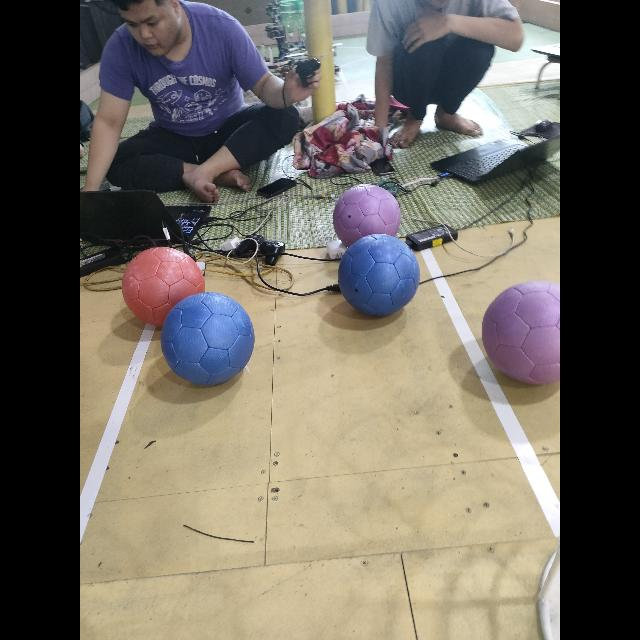B: (162, 292, 255, 386), (338, 234, 419, 316)
P: (482, 281, 560, 384), (334, 184, 401, 246)
R: (122, 248, 204, 326)
